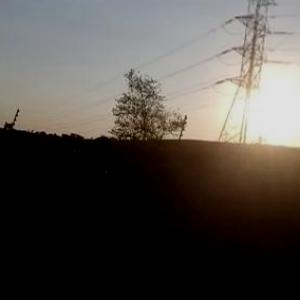follow: (61, 124, 143, 299)
